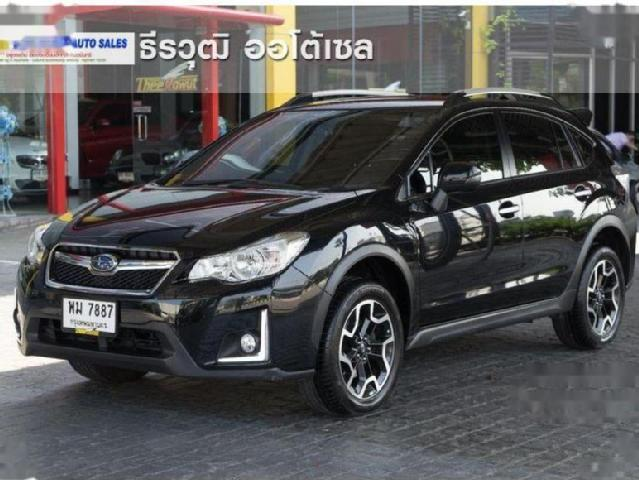pickup: (14, 90, 637, 415)
